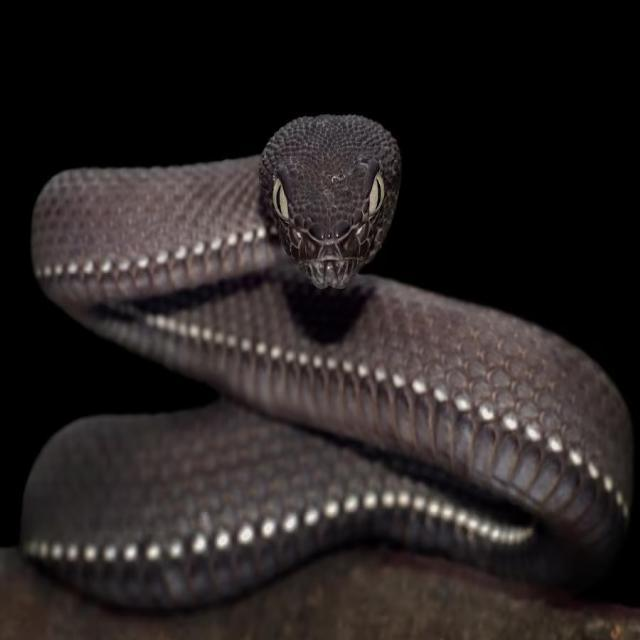Snake: (0, 94, 640, 635)
